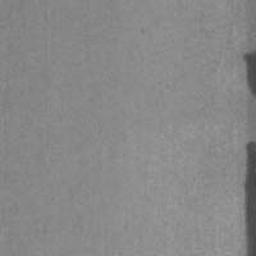Oil spot: (244, 141, 256, 256), (243, 50, 256, 98)
